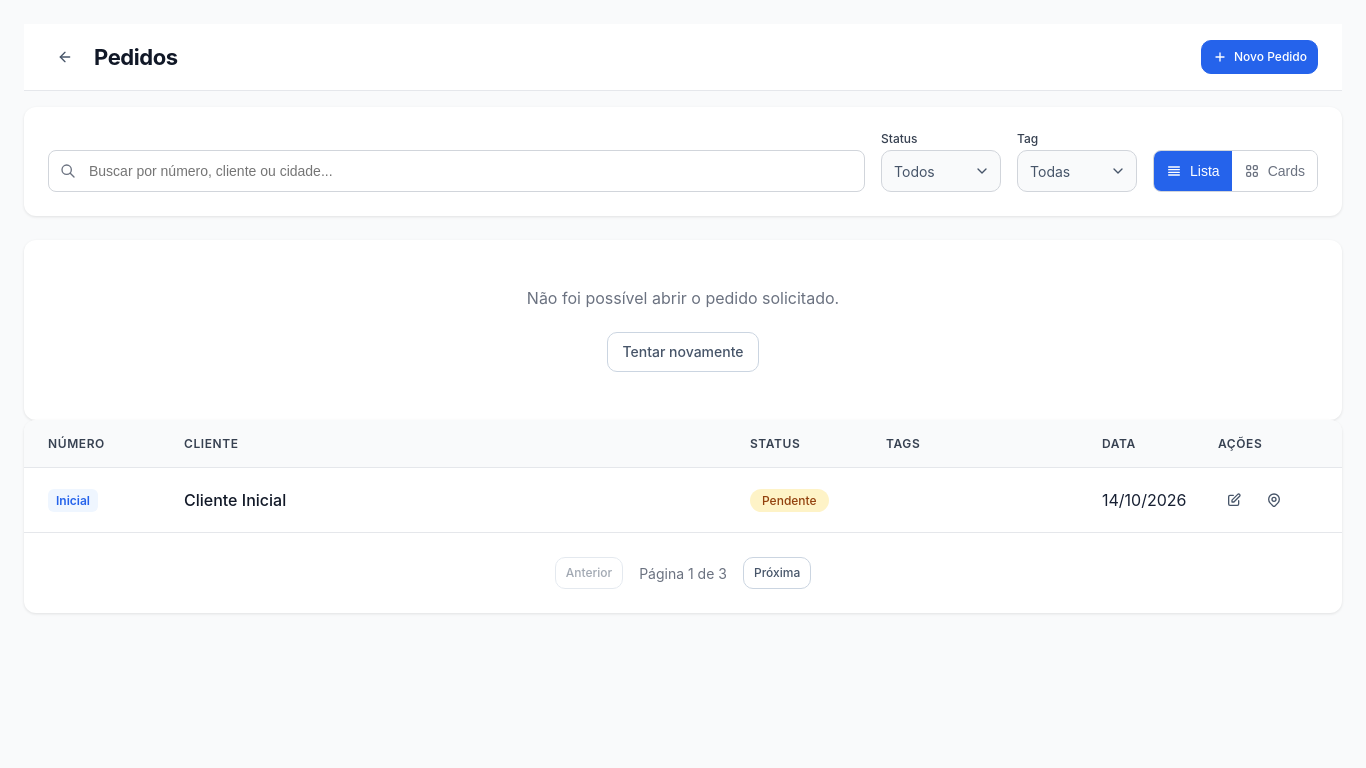
Test: Order directory navigation › keeps the directory visible and retries the failed deep link independently
This screenshot has width=1366, height=768.
Expected: the message "Não foi possível abrir o pedido solicitado. Tentar novamente" is shown, [24, 240, 1342, 420]
Click the button "Tentar novamente": (683, 352) [608, 332, 759, 372]
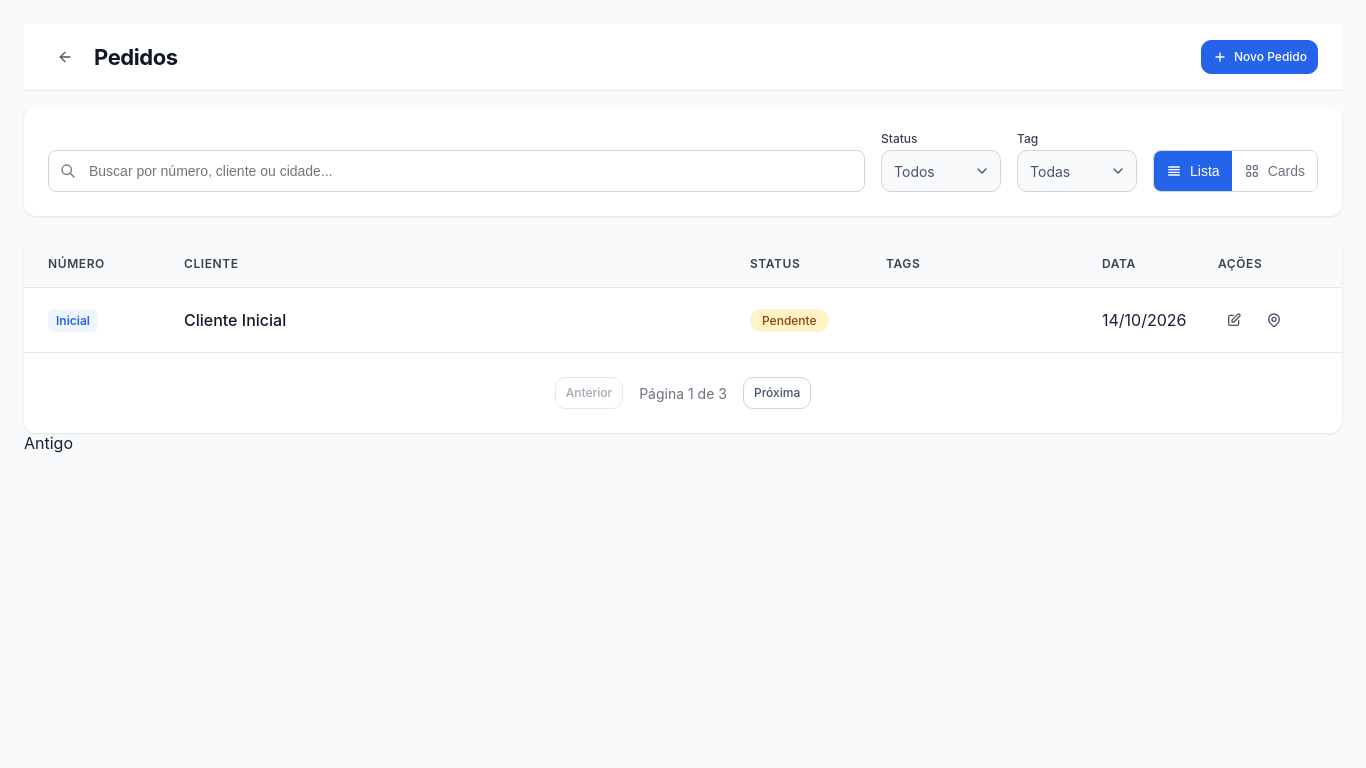
Expected: the text "Antigo" is shown, [24, 433, 73, 453]
